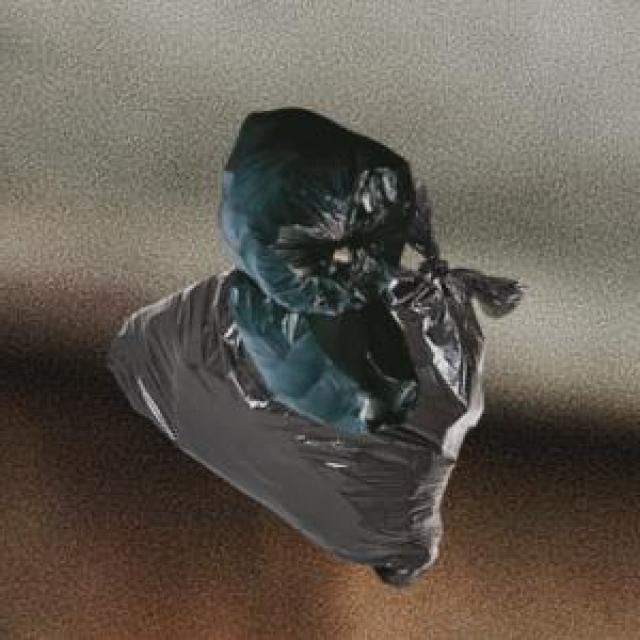Trashbag: (212, 109, 432, 318), (232, 312, 421, 438)
